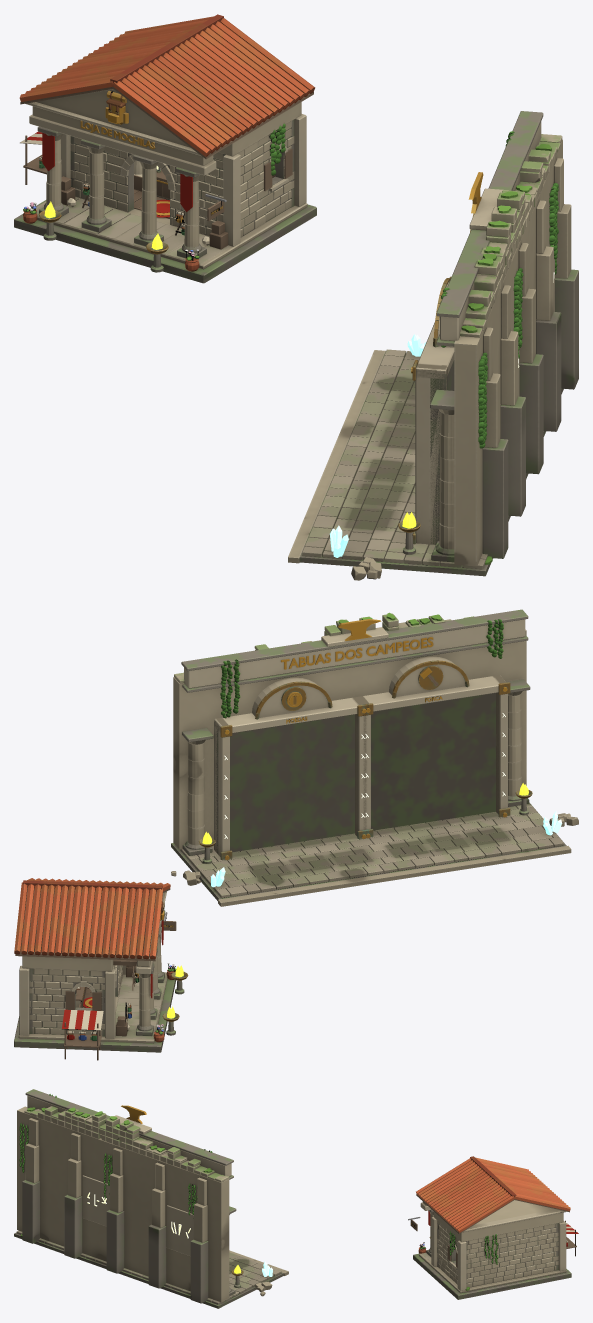
File: LOBBY_SN_05_SERVICES_c47183.fbx
3 views of the same model, one above another, from view 1: azimuth 30°, elevation 25°; view 2: azimuth 150°, elevation 25°; view 3: azimuth 270°, elevation 25° (orthographic). The views are drawn at different scales.
Visible parts, largest first — view 1: WB_Shop_Temple__SNB_Shop_1, WB_Rank_Tablets__SNB_Rank_1, WB_Rank_Tablets_01__SNB_Rank_2, WB_Shop_Temple_01__SNB_Shop_2, WB_Shop_Inside__SNB_ShopIn; view 2: WB_Rank_Tablets_01__SNB_Rank_2, WB_Rank_Tablets__SNB_Rank_1, WB_Shop_Temple_01__SNB_Shop_2, WB_Shop_Temple__SNB_Shop_1; view 3: WB_Rank_Tablets__SNB_Rank_1, WB_Rank_Tablets_01__SNB_Rank_2, WB_Shop_Temple__SNB_Shop_1, WB_Shop_Temple_01__SNB_Shop_2.
Part boxes in pixels (x1,y1,x2,y2): WB_Shop_Temple__SNB_Shop_1: (14, 18, 316, 283); WB_Rank_Tablets__SNB_Rank_1: (302, 139, 562, 580); WB_Rank_Tablets_01__SNB_Rank_2: (288, 111, 578, 576); WB_Shop_Temple_01__SNB_Shop_2: (19, 14, 301, 240); WB_Shop_Inside__SNB_ShopIn: (134, 160, 275, 218); WB_Rank_Tablets_01__SNB_Rank_2: (171, 609, 571, 906); WB_Rank_Tablets__SNB_Rank_1: (173, 612, 578, 857); WB_Shop_Temple_01__SNB_Shop_2: (14, 880, 179, 1060); WB_Shop_Temple__SNB_Shop_1: (14, 878, 188, 1052); WB_Rank_Tablets__SNB_Rank_1: (16, 1094, 229, 1302); WB_Rank_Tablets_01__SNB_Rank_2: (14, 1089, 288, 1308); WB_Shop_Temple__SNB_Shop_1: (408, 1158, 571, 1299); WB_Shop_Temple_01__SNB_Shop_2: (434, 1156, 578, 1287).
Bounding box in the file's own units: 65.05 × 43.6 × 144.
Materials: 10 (5 with a texture image).
